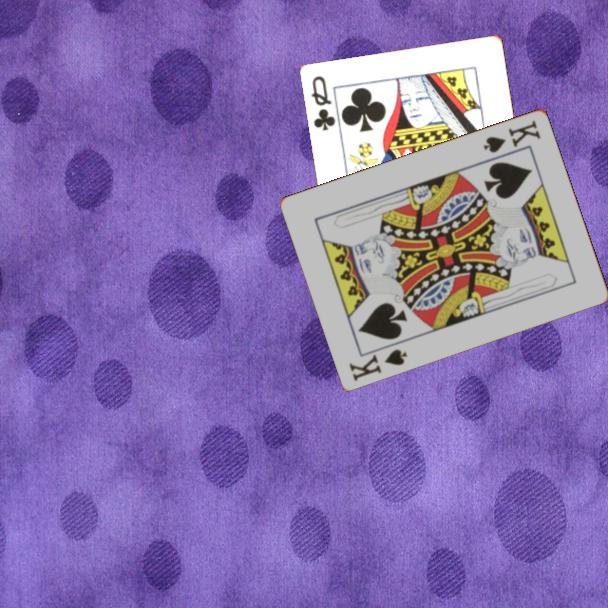c12: (308, 72, 339, 134)
s13: (480, 116, 544, 155), (346, 345, 410, 384)
